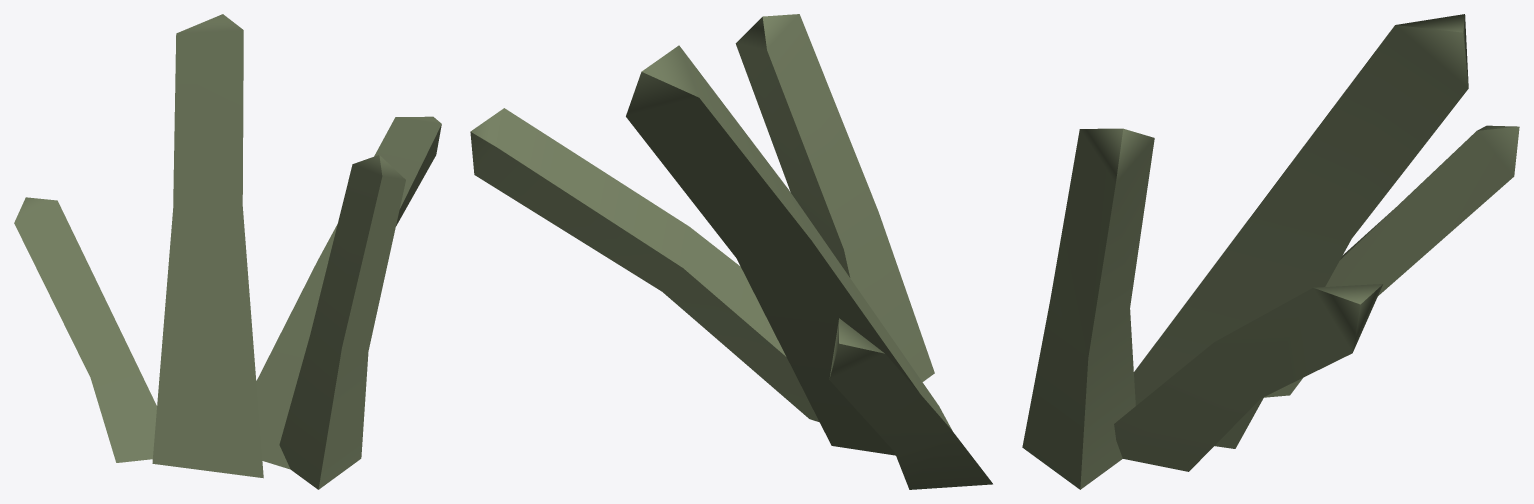
The model's file is P_grass_06_LD.fbx.
The picture shows the model from 3 angles, left to right: view 1: azimuth 30°, elevation 25°; view 2: azimuth 150°, elevation 25°; view 3: azimuth 270°, elevation 25°; orthographic projection. The views are drawn at different scales.
Visible parts, largest first — view 1: P_grass_06; view 2: P_grass_06; view 3: P_grass_06.
Part boxes in pixels (left/top/right/bottom): P_grass_06: left=14, top=14, right=441, bottom=489; P_grass_06: left=470, top=14, right=992, bottom=489; P_grass_06: left=1022, top=14, right=1519, bottom=489.
Size of the model in its own units: 37.12 by 32.68 by 31.73.
Materials: 1 (1 with a texture image).
